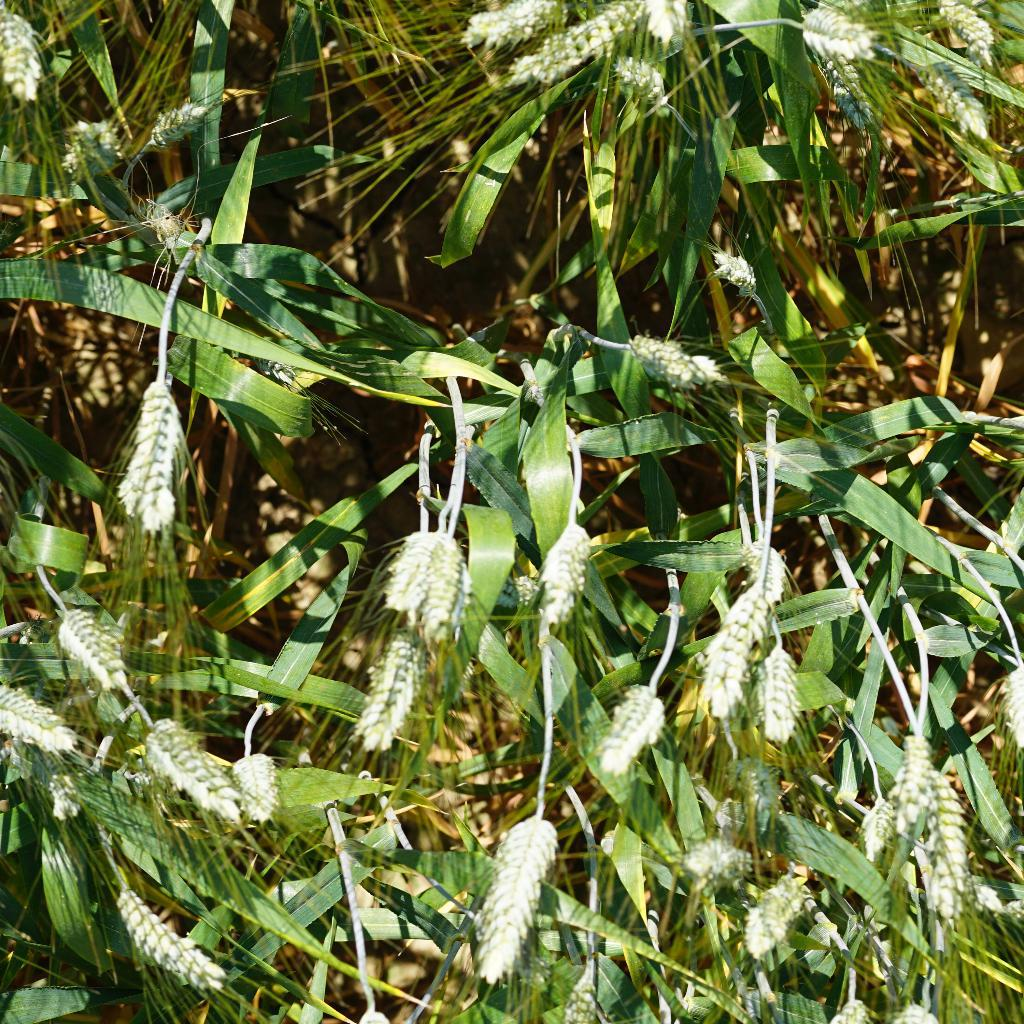0-0: (475, 802, 560, 990), (127, 716, 250, 823), (103, 890, 230, 991), (493, 9, 633, 92), (126, 374, 191, 542), (893, 51, 1000, 145), (911, 776, 978, 926), (358, 623, 429, 761), (705, 576, 769, 716), (537, 509, 601, 645), (591, 669, 669, 774), (55, 604, 141, 695), (615, 328, 735, 392), (732, 869, 811, 959), (750, 636, 811, 748), (0, 680, 89, 755), (0, 0, 60, 105), (224, 744, 294, 830), (602, 51, 680, 126), (713, 747, 781, 833), (425, 537, 478, 642), (819, 39, 877, 132), (736, 516, 795, 605), (545, 952, 617, 1024), (796, 7, 888, 62), (927, 0, 1008, 62), (458, 0, 570, 43), (391, 523, 440, 616), (884, 722, 931, 813), (30, 769, 96, 832), (64, 119, 123, 189), (847, 783, 901, 859), (139, 93, 221, 142), (687, 829, 755, 885), (623, 0, 714, 41), (709, 238, 765, 292), (1004, 661, 1024, 759)
